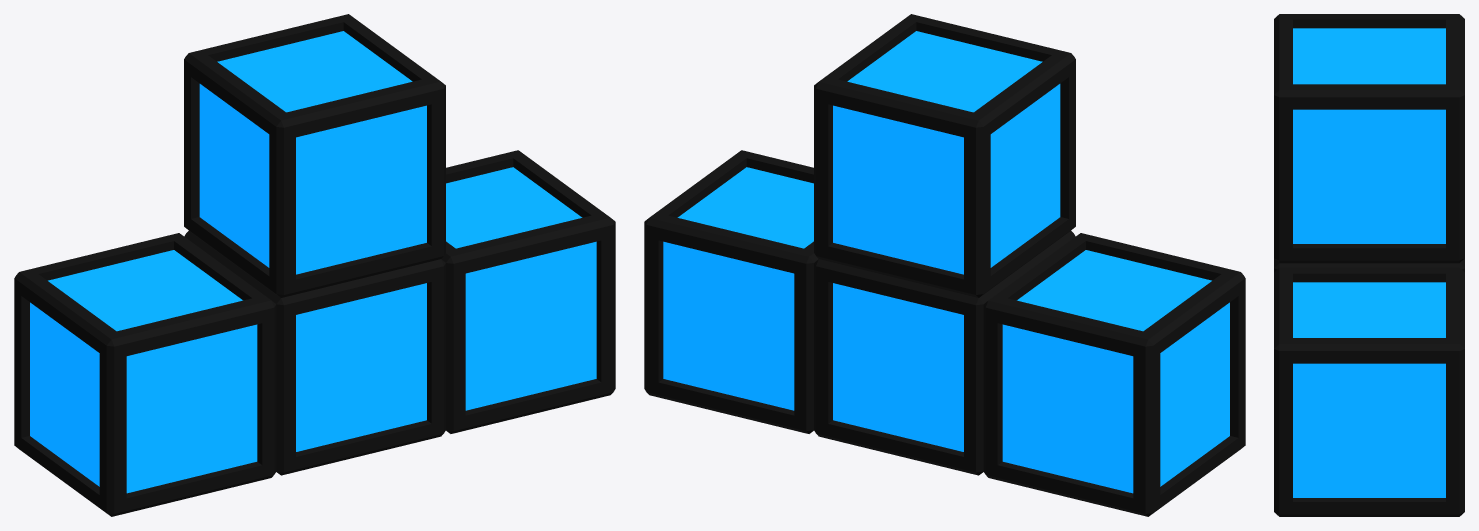
Rendered from TBlockSolid.fbx.
The picture shows the model from 3 angles, left to right: view 1: azimuth 30°, elevation 25°; view 2: azimuth 150°, elevation 25°; view 3: azimuth 270°, elevation 25°; orthographic projection. The views are drawn at different scales.
Visible parts, largest first — view 1: TBlock; view 2: TBlock; view 3: TBlock.
Part boxes in pixels (x1,y1,x2,y2): TBlock: (14,14,615,516); TBlock: (644,14,1245,516); TBlock: (1274,14,1464,516).
Size of the model in its own units: 600 by 200 by 400.
